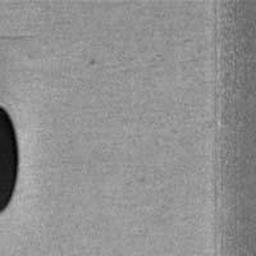Punching: (0, 106, 19, 212)
